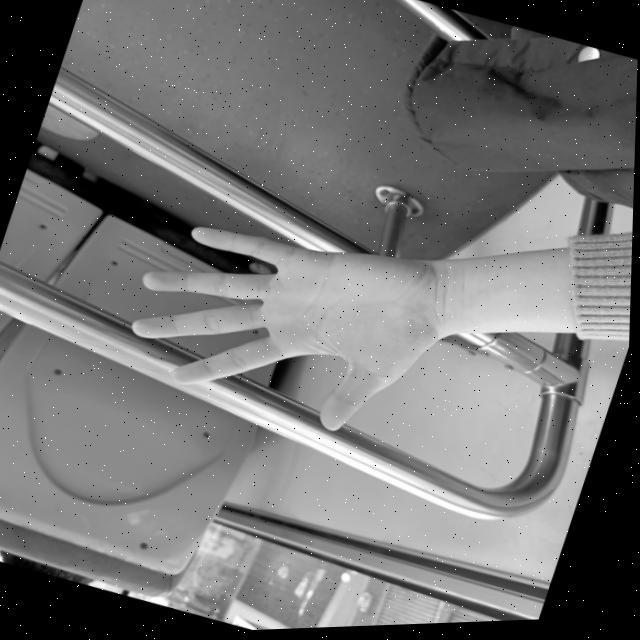no-gloves: (105, 168, 485, 481)
